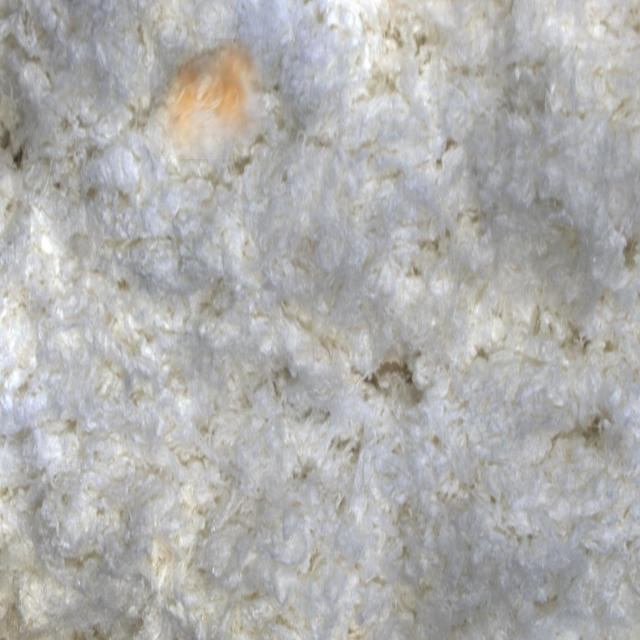dust: (150, 38, 263, 159)
